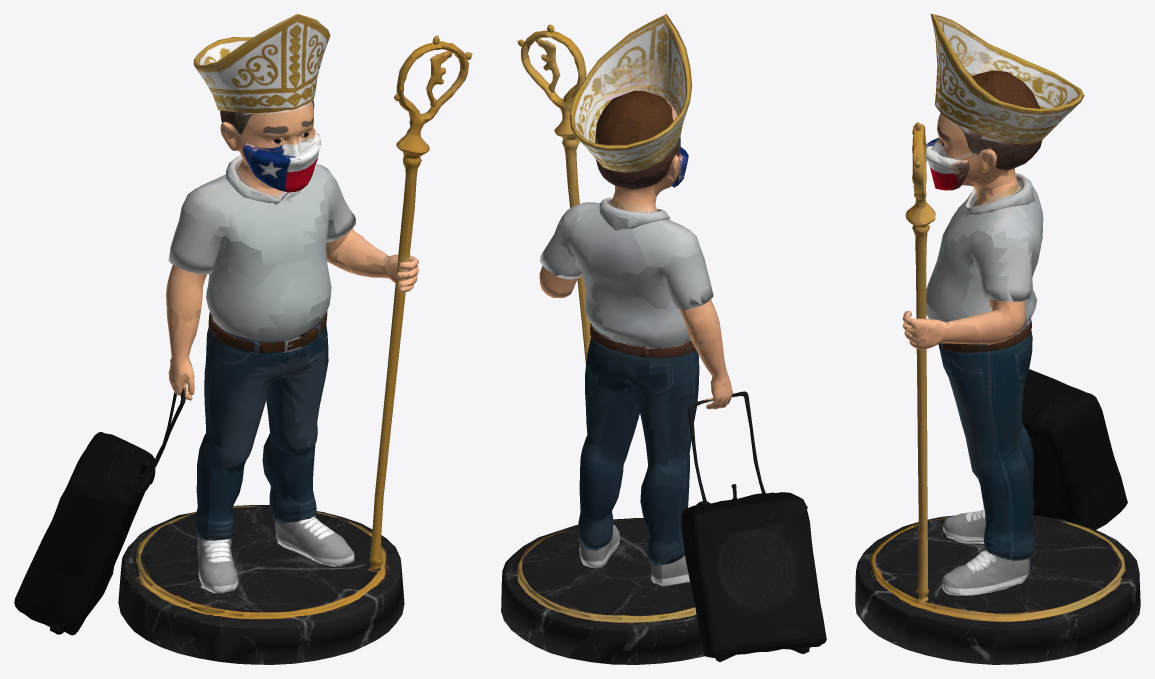
The model's file is right-bishop.glb.
The picture shows the model from 3 angles, left to right: view 1: azimuth 30°, elevation 25°; view 2: azimuth 150°, elevation 25°; view 3: azimuth 270°, elevation 25°; orthographic projection. The views are drawn at different scales.
Bounding box in the file's own units: 0.6738 × 1 × 0.4365.
Materials: 1 (1 with a texture image).
